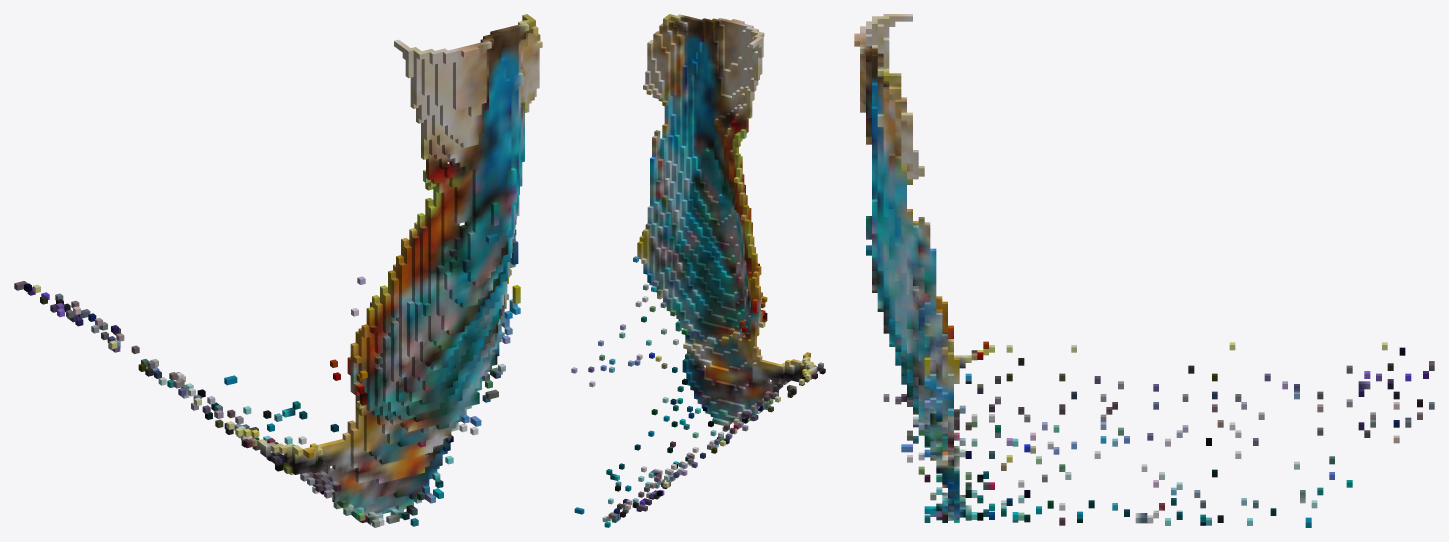
3 views of the same model, side by side, from view 1: azimuth 30°, elevation 25°; view 2: azimuth 150°, elevation 25°; view 3: azimuth 270°, elevation 25° (orthographic). The views are drawn at different scales.
Size of the model in its own units: 0.52 by 0.94 by 0.99.
